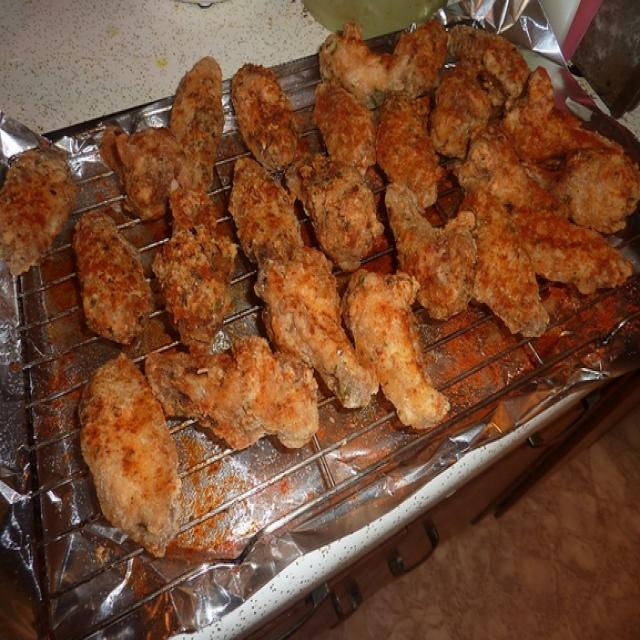Deep fried chicken wing: (9, 36, 623, 518)
